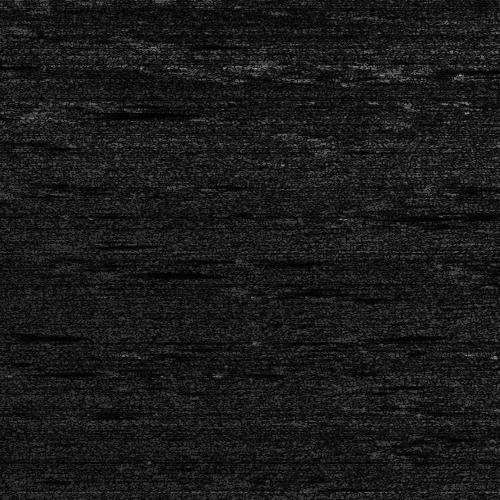object: (0, 105, 81, 118), (442, 262, 500, 275), (73, 264, 114, 281), (387, 64, 450, 73), (322, 332, 385, 339), (35, 240, 88, 245), (447, 348, 488, 353), (0, 333, 22, 338)
shadow: (94, 264, 201, 281), (40, 105, 161, 118), (419, 64, 491, 73), (354, 332, 420, 339), (0, 333, 72, 338), (62, 240, 131, 245), (474, 262, 500, 275), (468, 348, 500, 353), (0, 62, 11, 67)
